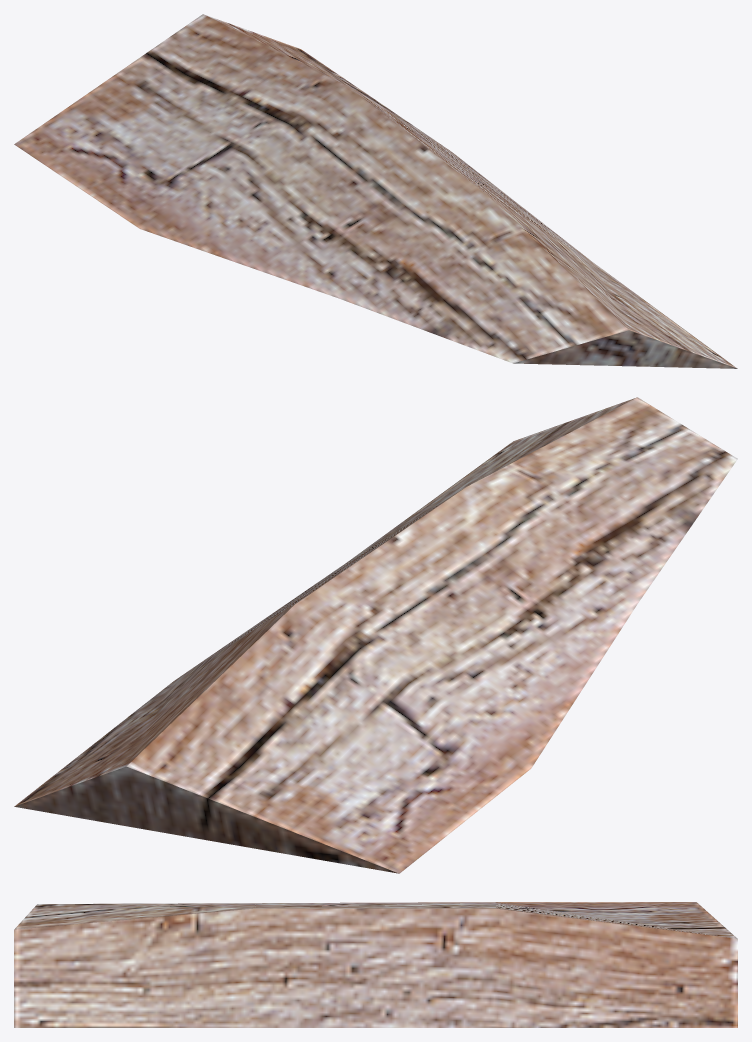
File: FirewoodPoleno_5_2.FBX
3 views of the same model, one above another, from view 1: azimuth 30°, elevation 25°; view 2: azimuth 150°, elevation 25°; view 3: azimuth 270°, elevation 25° (orthographic). The views are drawn at different scales.
Visible parts, largest first — view 1: FirewoodPoleno_5_2; view 2: FirewoodPoleno_5_2; view 3: FirewoodPoleno_5_2.
Part boxes in pixels (<box>): FirewoodPoleno_5_2: <box>14,14,737,368</box>; FirewoodPoleno_5_2: <box>14,397,737,873</box>; FirewoodPoleno_5_2: <box>14,902,737,1027</box>.
Bounding box in the file's own units: 21.03 × 6.04 × 50.09.
